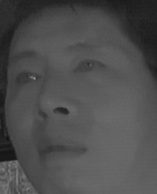eye: (71, 57, 106, 79), (12, 66, 43, 89)
mouth: (31, 132, 87, 168)
